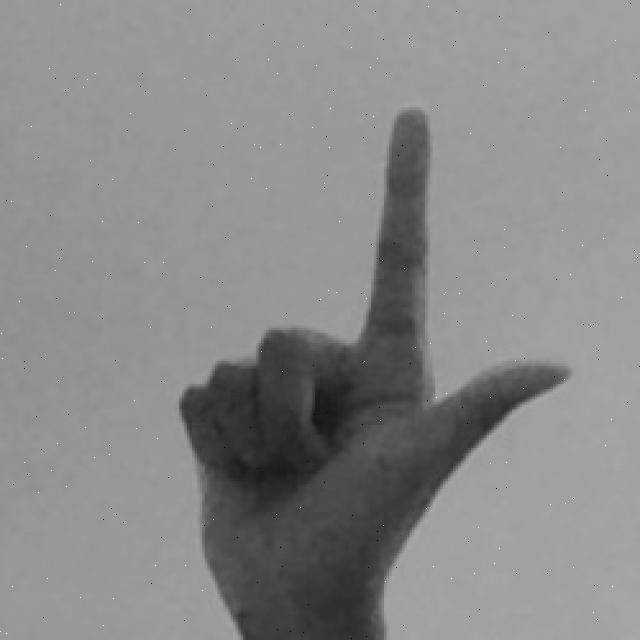L: (176, 97, 584, 640)
